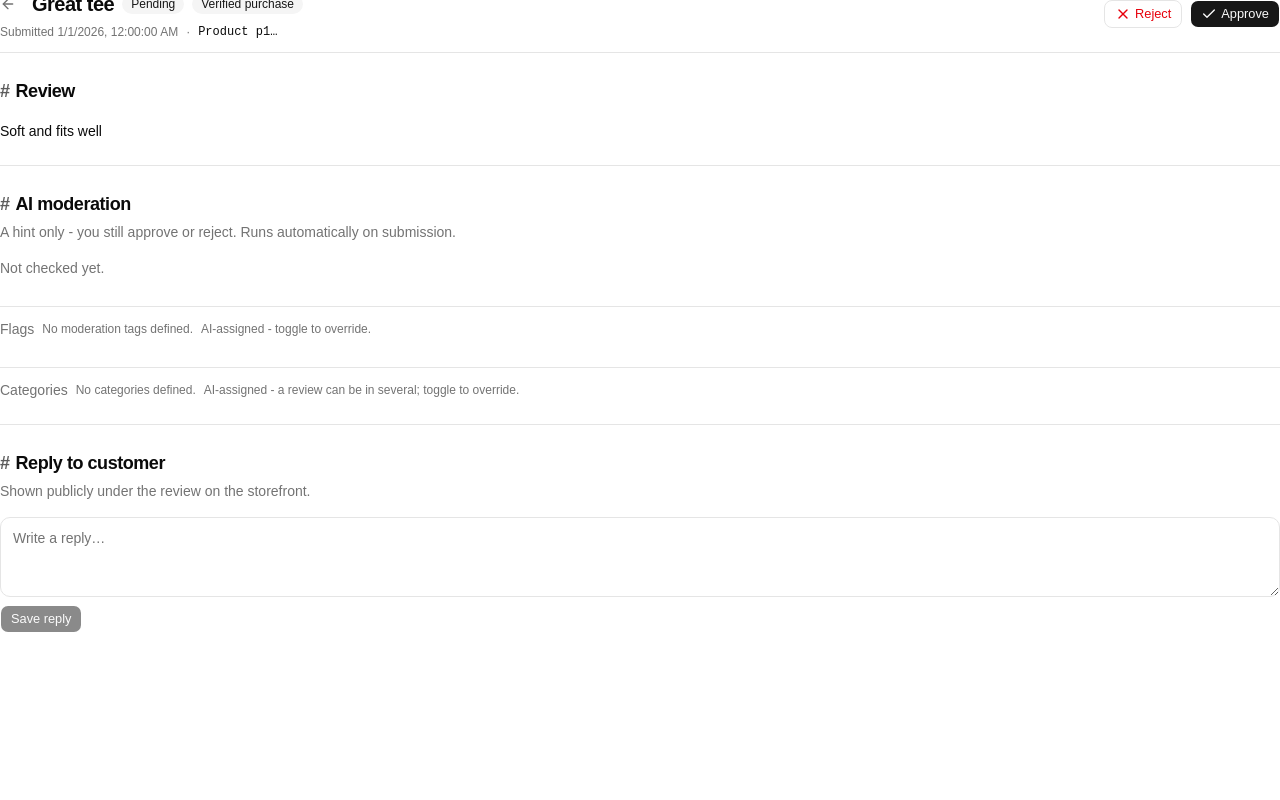
Test: ReviewDetail › approves from the response and refetches only the mounted list
The image size is (1280, 800).
Click the button "Approve" at coordinates (1235, 14), box [1190, 0, 1279, 28]
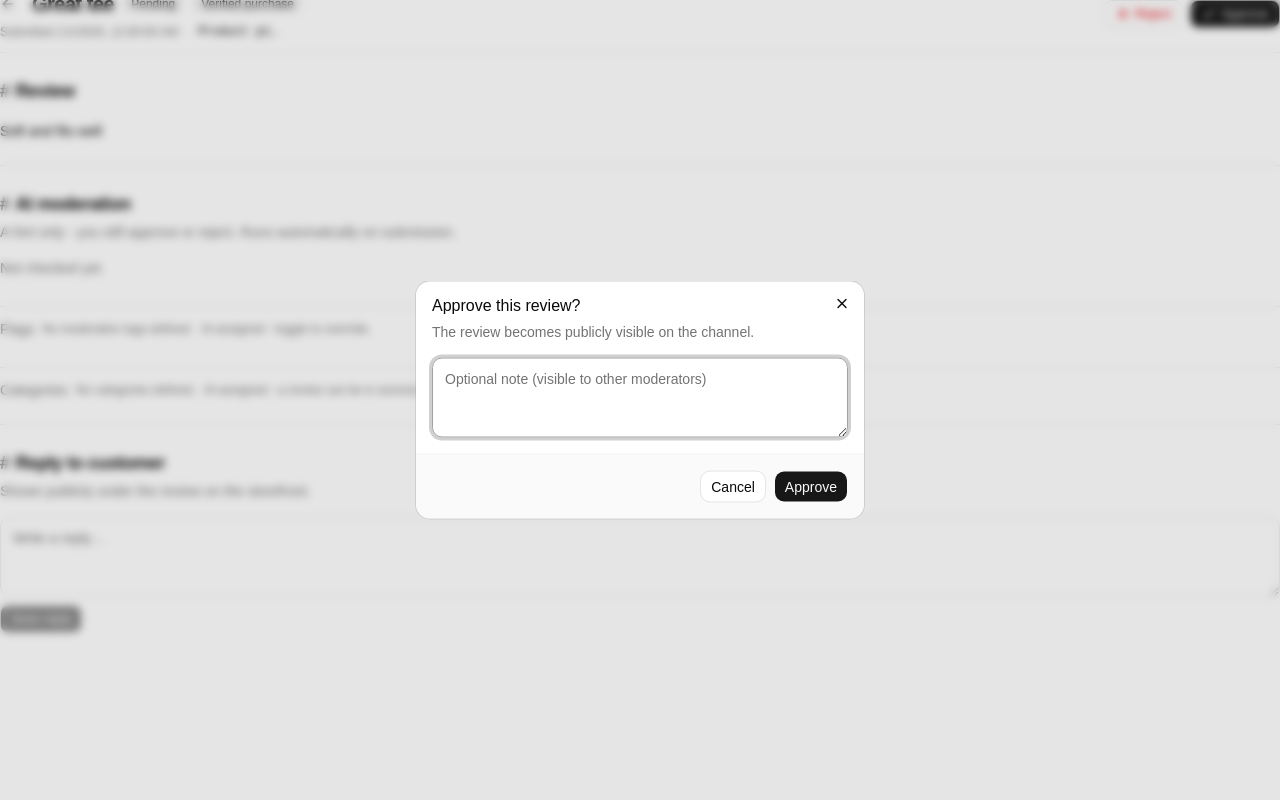
Click the button "Approve" at coordinates (811, 486), box [774, 470, 848, 502]
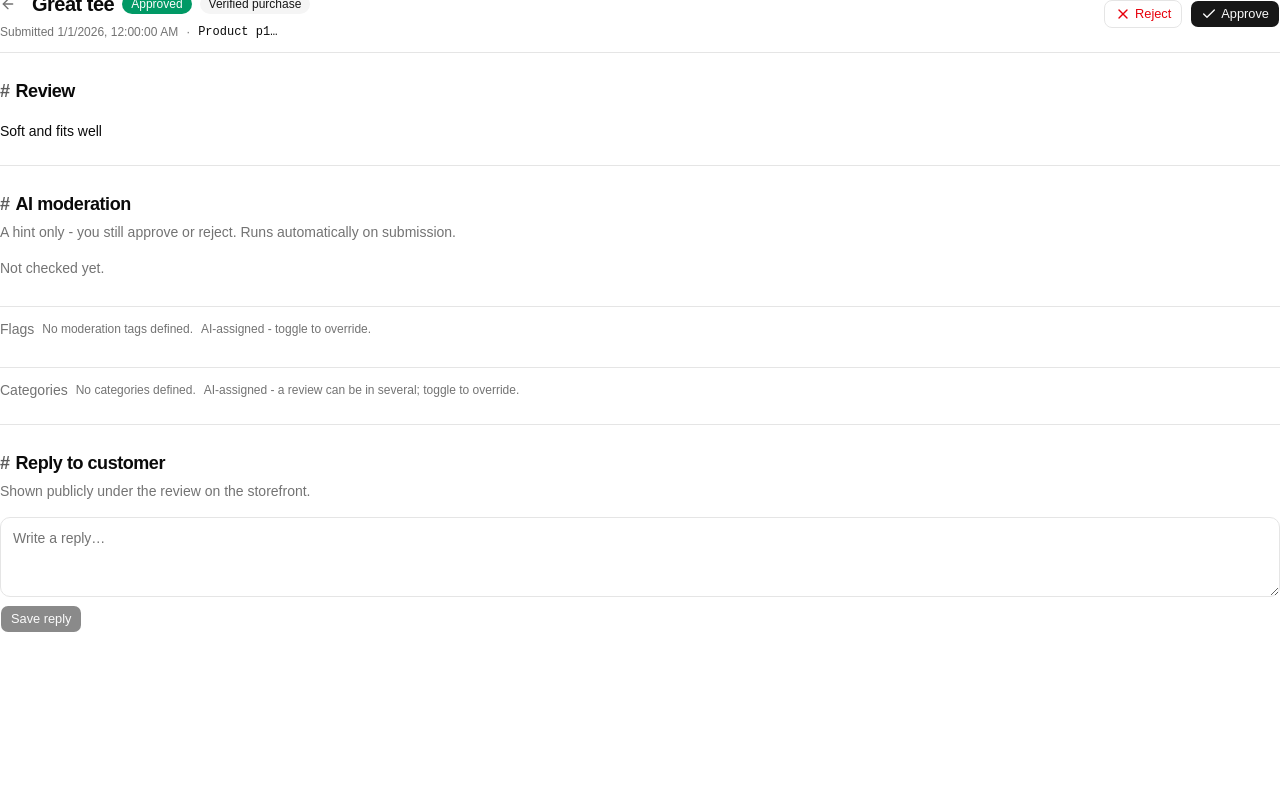
Check: the dialog is gone
